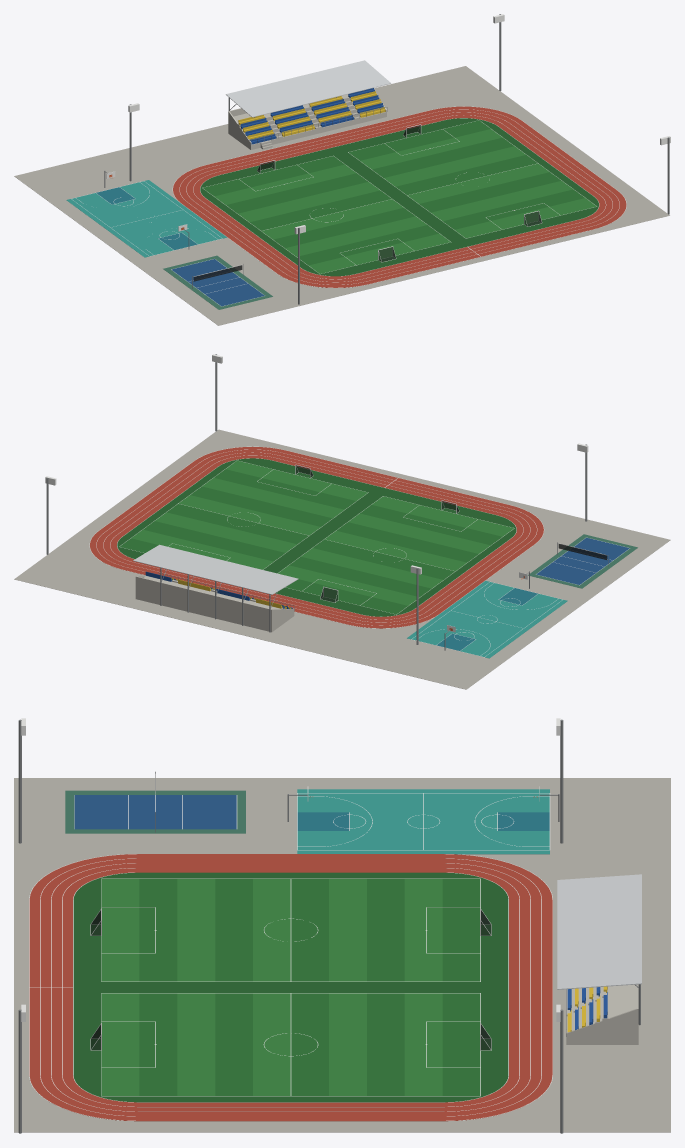
File: SPORTS.glb
3 renders of one model, top to bottom at view 1: azimuth 30°, elevation 25°; view 2: azimuth 150°, elevation 25°; view 3: azimuth 270°, elevation 25°, orthographic. The views are drawn at different scales.
Parts seen in each view (by area): view 1: SPORTS; view 2: SPORTS; view 3: SPORTS.
Part boxes in pixels (x1,y1,x2,y2): SPORTS: (14,14,670,325); SPORTS: (14,354,670,689); SPORTS: (14,718,670,1133).
Bounding box in the file's own units: 93.53 × 15 × 72.8.
